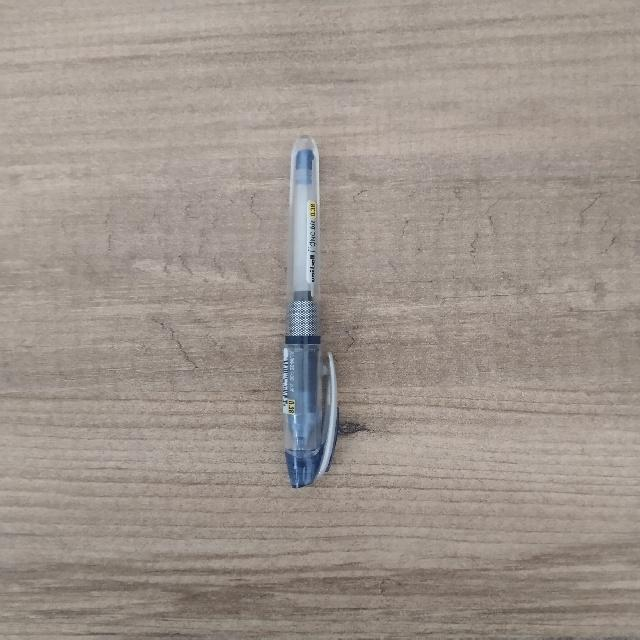pen: (282, 136, 337, 487)
